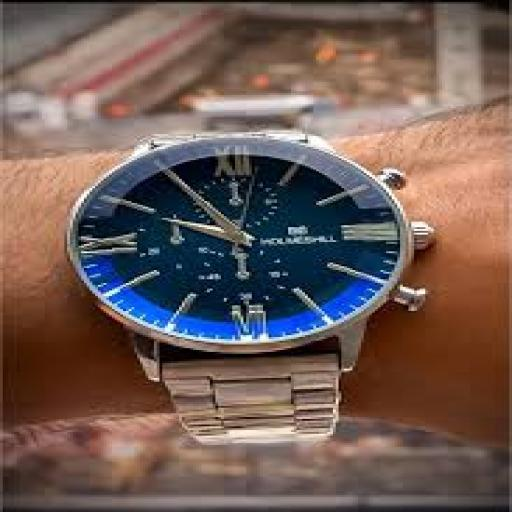KolSaati: (57, 102, 436, 456)
